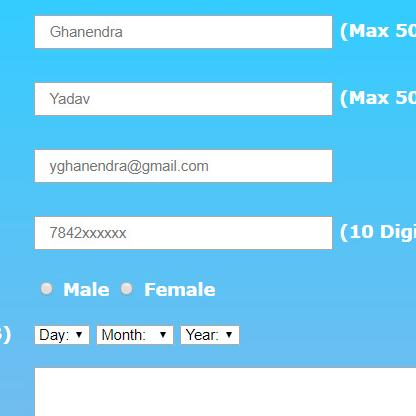field: (31, 12, 337, 53), (30, 80, 337, 120), (31, 213, 337, 252), (32, 147, 335, 184), (94, 323, 174, 347), (177, 323, 241, 347), (31, 323, 92, 348)
radio: (36, 279, 57, 300), (116, 279, 133, 299)
radio_with_label: (117, 275, 222, 304), (28, 273, 112, 305)
